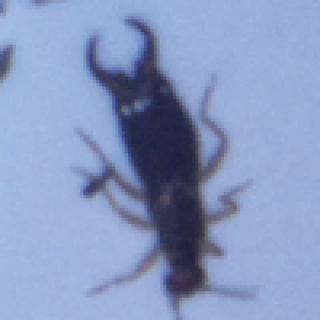earwig: (67, 9, 273, 320)
